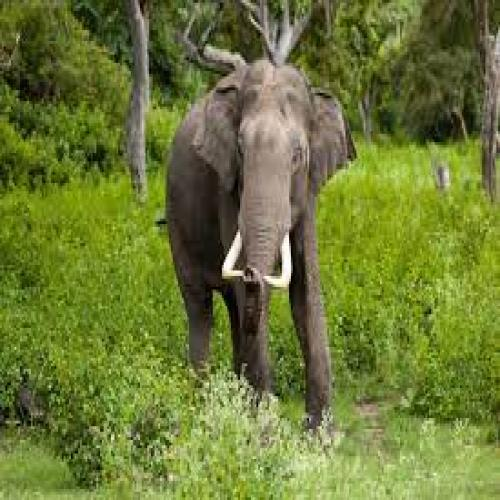asian_elephant-endangered: (165, 59, 357, 430)
